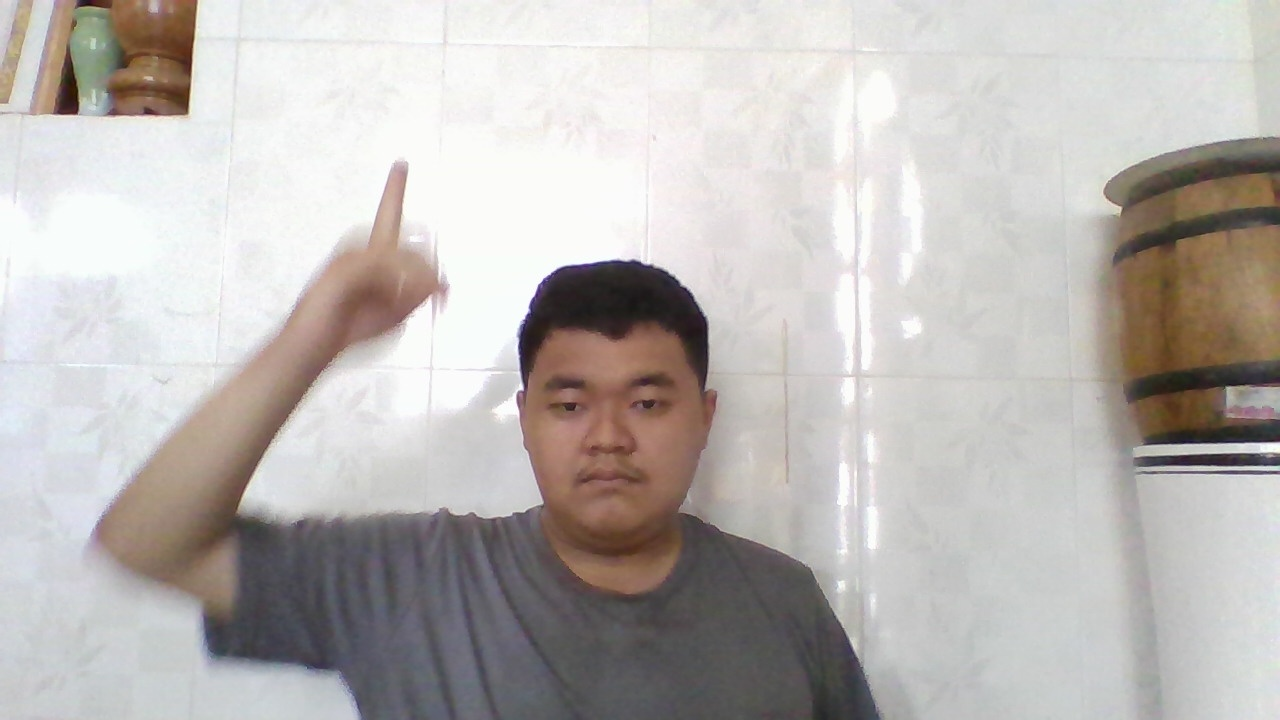D: (317, 151, 455, 354)
